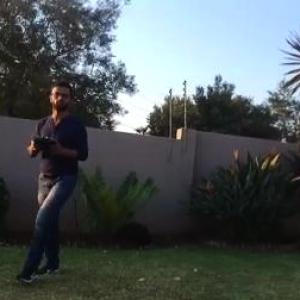follow: (11, 72, 93, 288)
